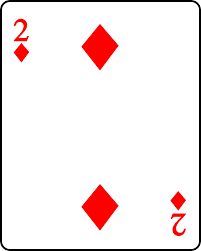two of diamonds: (5, 5, 199, 251)
